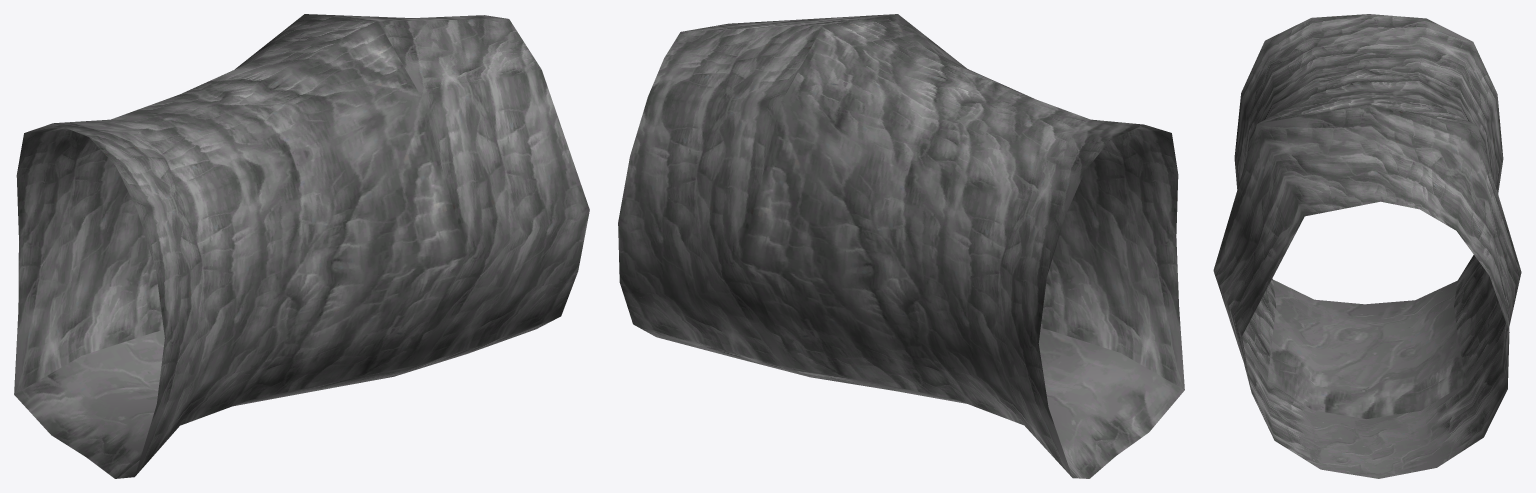
File: SWORDLIGHT20_PS-AREA03_16.fbx
3 renders of one model, left to right at view 1: azimuth 30°, elevation 25°; view 2: azimuth 150°, elevation 25°; view 3: azimuth 270°, elevation 25°, orthographic. The views are drawn at different scales.
Visible parts, largest first — view 1: SWORDLIGHT20_PS-AREA03_16; view 2: SWORDLIGHT20_PS-AREA03_16; view 3: SWORDLIGHT20_PS-AREA03_16.
Part boxes in pixels (<box>): SWORDLIGHT20_PS-AREA03_16: <box>14,14,589,478</box>; SWORDLIGHT20_PS-AREA03_16: <box>618,14,1184,478</box>; SWORDLIGHT20_PS-AREA03_16: <box>1213,14,1521,478</box>.
Bounding box in the file's own units: 94044 × 72192 × 58749.
3 materials, 3 textured.
